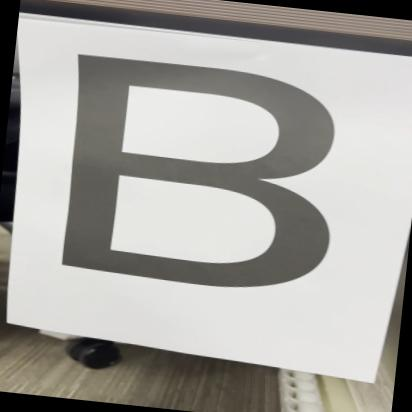seat: (21, 33, 368, 310)
